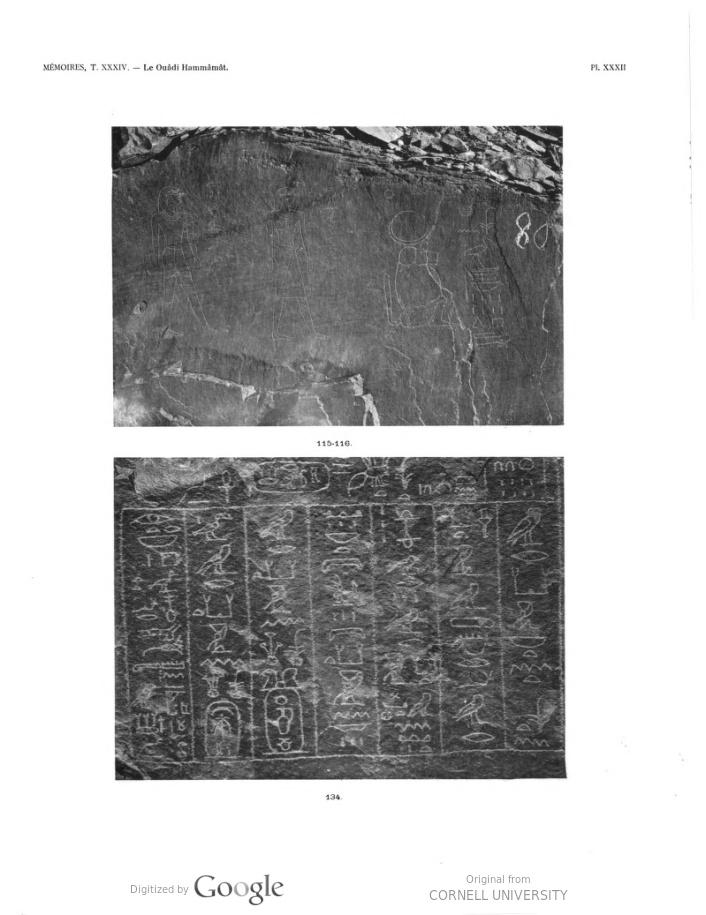circle: (253, 669, 314, 760), (200, 690, 241, 764)
